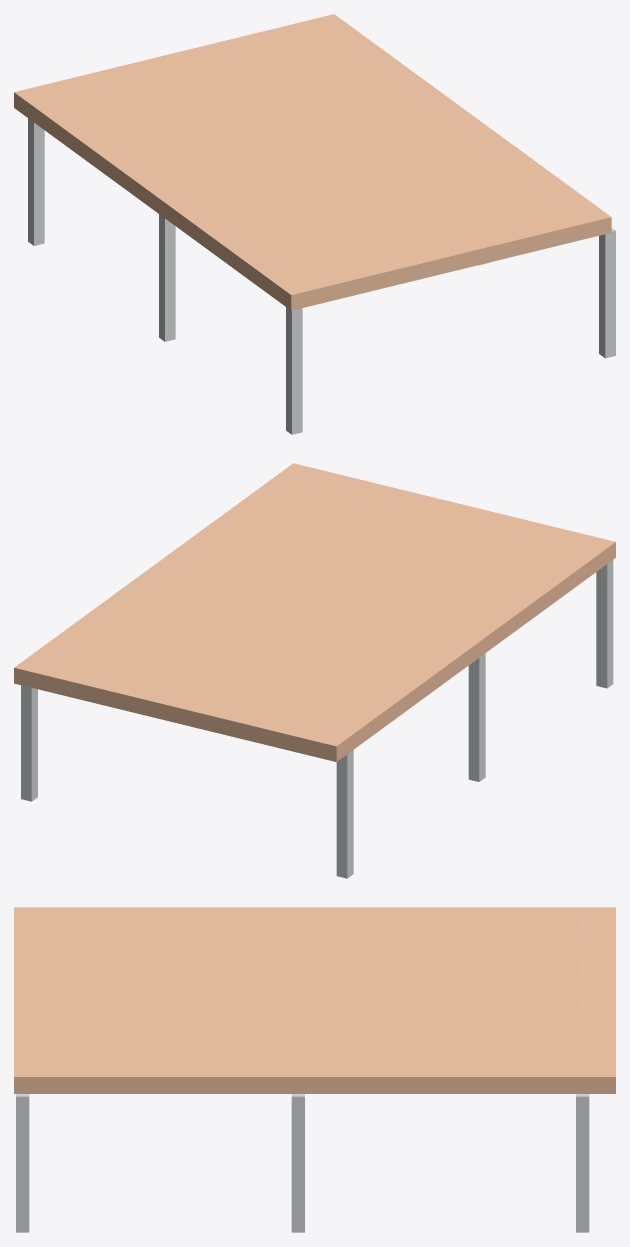
Rendered from desk-row-d7.glb.
3 views of the same model, one above another, from view 1: azimuth 30°, elevation 25°; view 2: azimuth 150°, elevation 25°; view 3: azimuth 270°, elevation 25° (orthographic). The views are drawn at different scales.
Visible parts, largest first — view 1: desktop, shared-corner-leg (×4); view 2: desktop, shared-corner-leg (×4); view 3: desktop, shared-corner-leg (×3).
Part boxes in pixels (x1=…): desktop: x1=14, y1=14, x2=611, y2=310; shared-corner-leg (×4): x1=28, y1=118, x2=615, y2=434; desktop: x1=14, y1=463, x2=615, y2=761; shared-corner-leg (×4): x1=21, y1=560, x2=613, y2=878; desktop: x1=14, y1=907, x2=615, y2=1093; shared-corner-leg (×3): x1=16, y1=1094, x2=589, y2=1232.
Size of the model in its own units: 3.05 by 1.26 by 4.5.
1 material, 1 textured.
